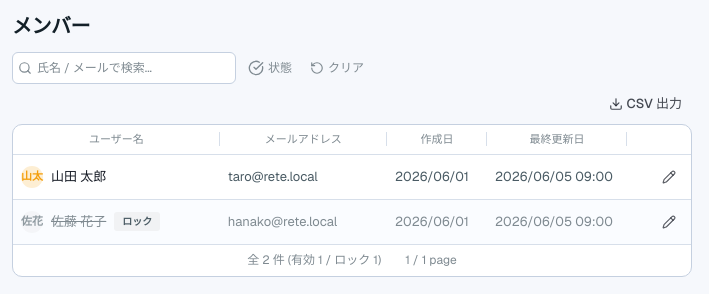
Scenario: MembersScreen › 状態フィルタ「ロック中」でロックアカウントのみ残す
# mdl-0026: 絞り込みは native select → FilterChipSelect（チップ→listbox）へ移行。
What coordinates should you click on to do the following:
click the button with aria-label "状態で絞り込み"
I would click on:
 (270, 68)
Its box is [242,53,298,83].
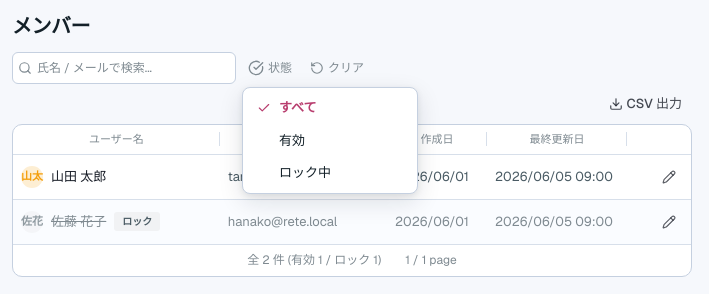
What coordinates should you click on to do the following:
click the option "ロック中"
I would click on:
 (305, 172)
Its box is [279,164,331,181].
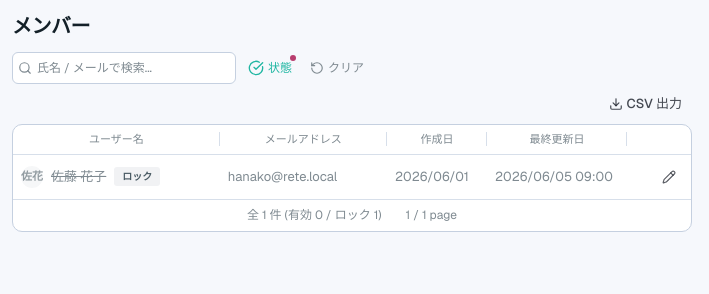
Check: the text "佐藤 花子" is shown, box [51,167,106,186]
Check: the text "山田 太郎" is gone
